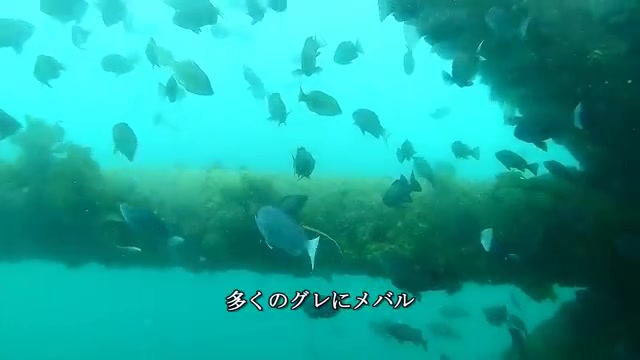smallfish: (233, 192, 331, 273), (155, 47, 229, 112), (83, 114, 161, 170), (117, 202, 189, 262), (450, 37, 513, 91), (381, 320, 438, 359), (34, 50, 88, 91), (178, 1, 234, 39), (346, 101, 389, 148), (379, 172, 428, 212), (295, 84, 346, 120), (485, 143, 539, 176), (568, 96, 608, 139), (293, 33, 328, 81), (98, 48, 144, 81), (262, 87, 299, 128), (399, 44, 431, 84), (284, 144, 320, 178), (328, 36, 363, 67), (64, 22, 104, 48), (441, 138, 481, 163)
